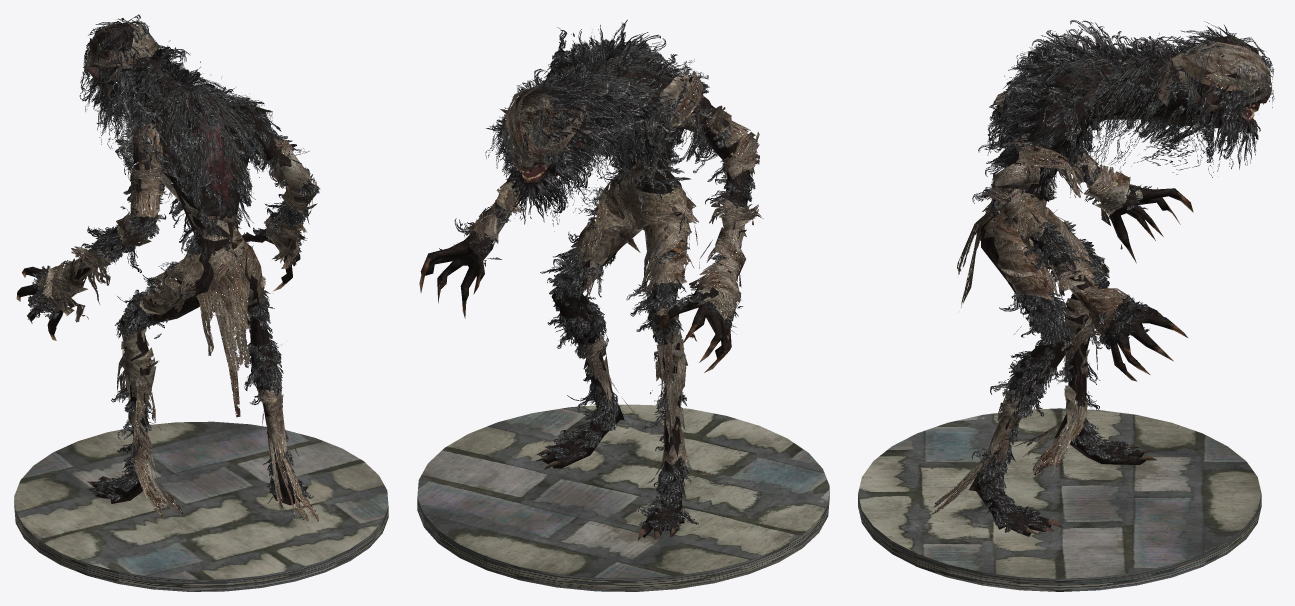
File: male-beast-patient.glb
The picture shows the model from 3 angles, left to right: view 1: azimuth 30°, elevation 25°; view 2: azimuth 150°, elevation 25°; view 3: azimuth 270°, elevation 25°; orthographic projection. The views are drawn at different scales.
Parts seen in each view (by area): view 1: 21-Cylinder.obj, 27-bb_27_0, 27-bb_27_1, 27-bb_27_3, 27-bb_27_2; view 2: 21-Cylinder.obj, 27-bb_27_0, 27-bb_27_1, 27-bb_27_3, 27-bb_27_2; view 3: 21-Cylinder.obj, 27-bb_27_0, 27-bb_27_1, 27-bb_27_3, 27-bb_27_2.
Part boxes in pixels (x1,y1,x2,y2): 21-Cylinder.obj: (14,421,388,591); 27-bb_27_0: (16,19,319,527); 27-bb_27_1: (27,14,319,503); 27-bb_27_3: (30,18,316,501); 27-bb_27_2: (27,21,318,500); 21-Cylinder.obj: (417,404,829,591); 27-bb_27_0: (419,46,762,540); 27-bb_27_1: (439,19,757,533); 27-bb_27_3: (459,36,757,531); 27-bb_27_2: (457,21,754,532); 21-Cylinder.obj: (858,408,1261,591); 27-bb_27_0: (931,36,1272,536); 27-bb_27_1: (971,20,1270,535); 27-bb_27_3: (974,32,1274,531); 27-bb_27_2: (972,20,1270,529).
Bounding box in the file's own units: 1.4 × 1.88 × 1.47.
Materials: 5 (5 with a texture image).
